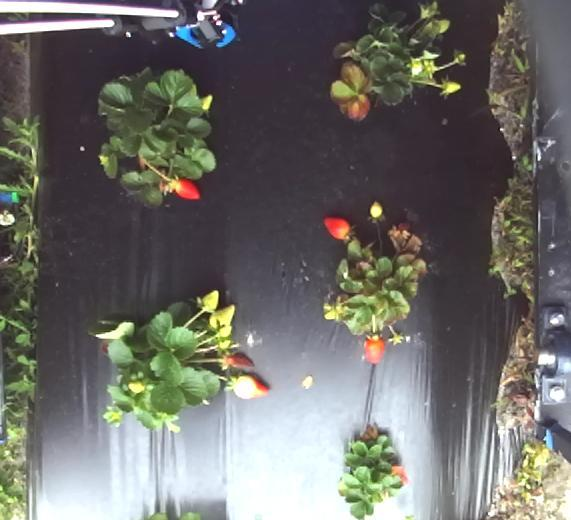immature: (211, 304, 234, 331), (126, 376, 149, 398), (201, 282, 219, 310), (444, 76, 464, 99), (199, 92, 218, 114), (211, 326, 239, 339), (434, 16, 454, 34), (371, 198, 384, 221), (219, 340, 234, 350)
leaves: (332, 69, 375, 122), (391, 226, 420, 266), (355, 423, 379, 444), (391, 466, 409, 489)
mature: (236, 372, 272, 404), (320, 212, 353, 242), (169, 174, 201, 202), (360, 333, 387, 365), (221, 348, 255, 371)
